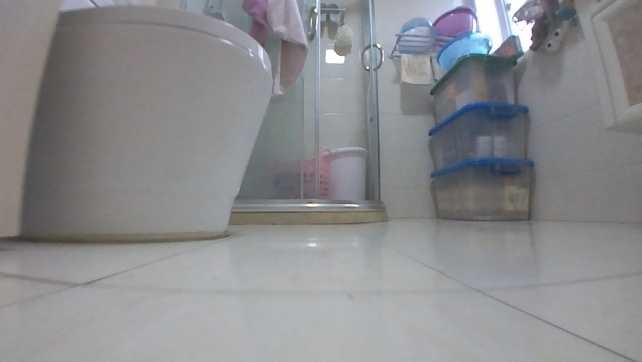toilet_part: (15, 5, 274, 239)
